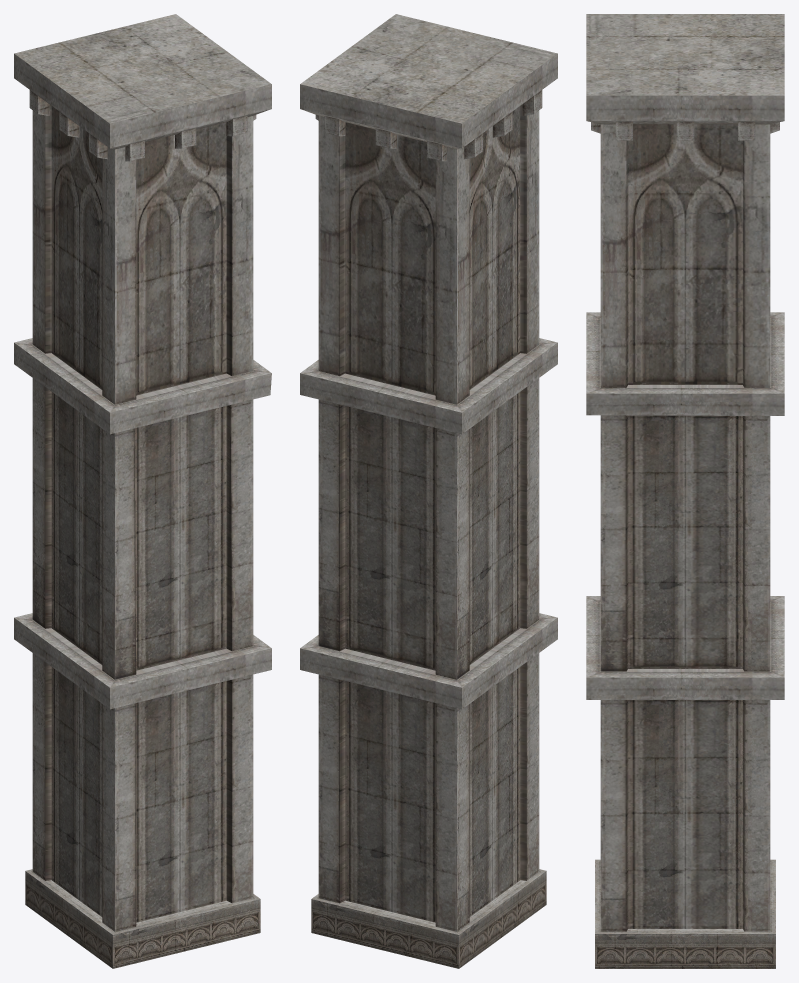
File: bg_lut_lucastle_churchtower03_sm_ksh.FBX
3 renders of one model, left to right at view 1: azimuth 30°, elevation 25°; view 2: azimuth 150°, elevation 25°; view 3: azimuth 270°, elevation 25°, orthographic. The views are drawn at different scales.
Parts seen in each view (by area): view 1: bg_lut_lucastle_churchtower03_sm_ksh; view 2: bg_lut_lucastle_churchtower03_sm_ksh; view 3: bg_lut_lucastle_churchtower03_sm_ksh.
Boxes of the visible parts, x1=… form: bg_lut_lucastle_churchtower03_sm_ksh: x1=14, y1=14, x2=271, y2=968; bg_lut_lucastle_churchtower03_sm_ksh: x1=300, y1=14, x2=557, y2=968; bg_lut_lucastle_churchtower03_sm_ksh: x1=586, y1=14, x2=784, y2=968.
Size of the model in its own units: 123 by 615 by 126.
